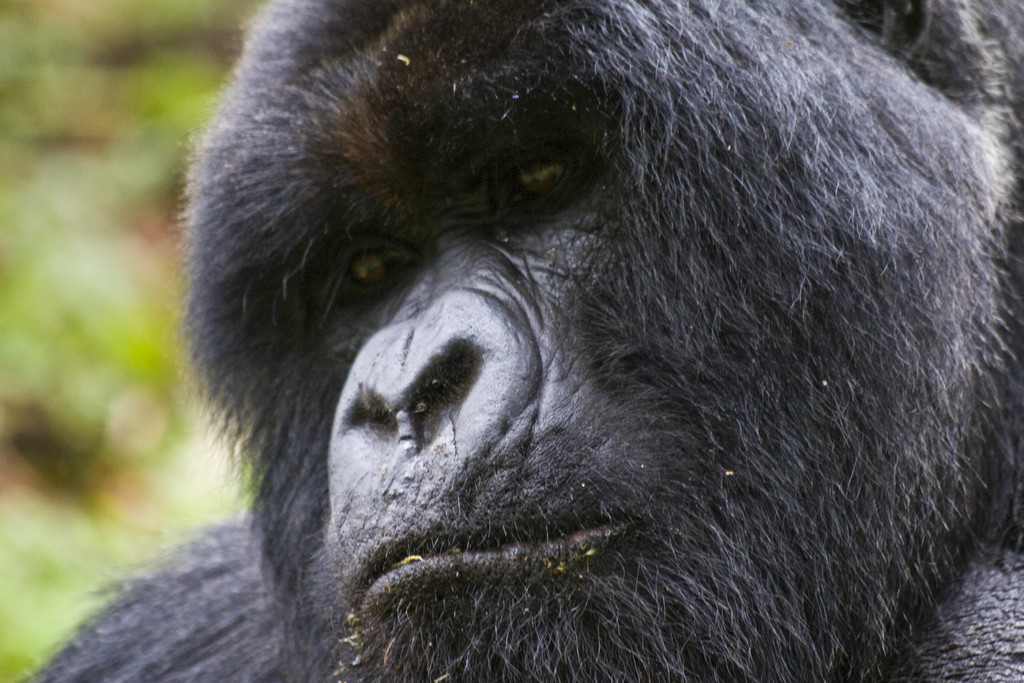Animal: (7, 0, 1022, 682)
